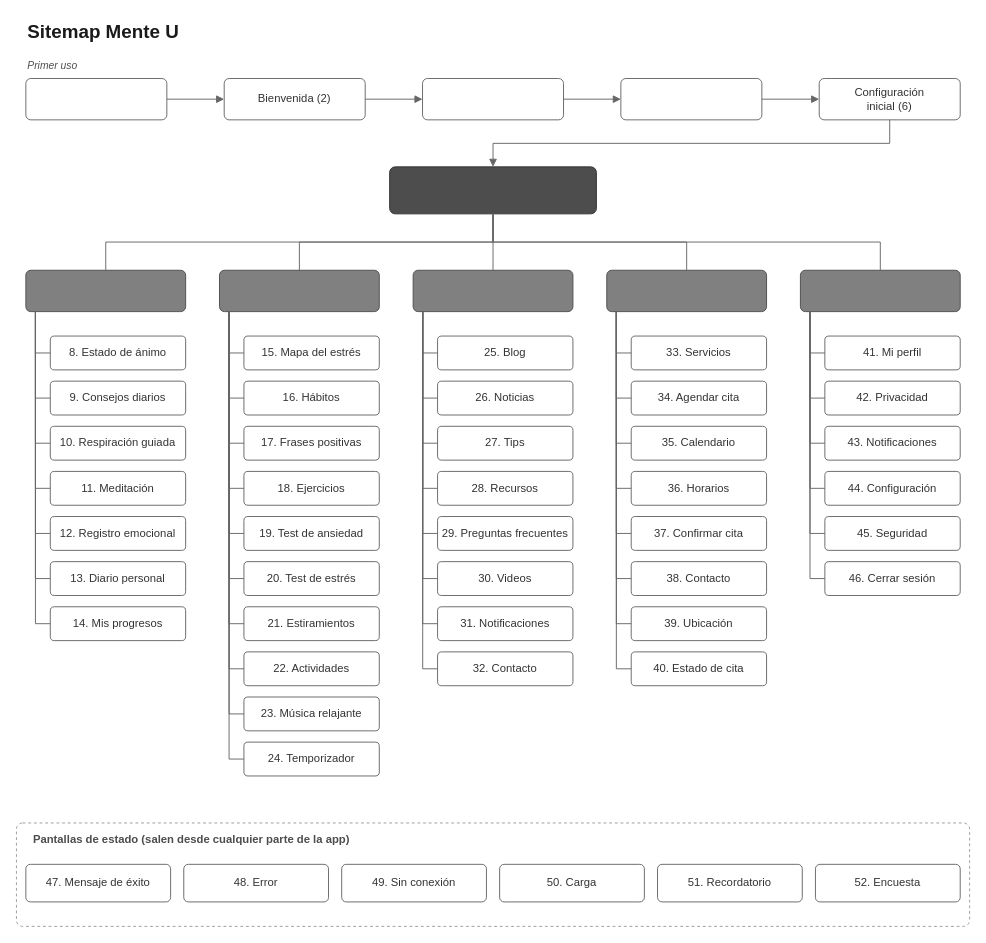
Image size: 986x943. Some labels were removed from this diagram. The box of each missing label's shape, as (x1, y1, x2, y2) in pixels:
Herramientas: (219, 269, 379, 312)
Inicio: (25, 269, 186, 312)
Pantalla principal (7): (389, 166, 596, 214)
Perfil: (799, 269, 960, 312)
Permisos (5): (620, 78, 762, 120)
Recursos: (412, 269, 573, 312)
Registro / Inicio de sesión (3-4): (422, 78, 564, 120)
Servicios: (606, 269, 767, 312)
Splash (1): (25, 78, 167, 120)
